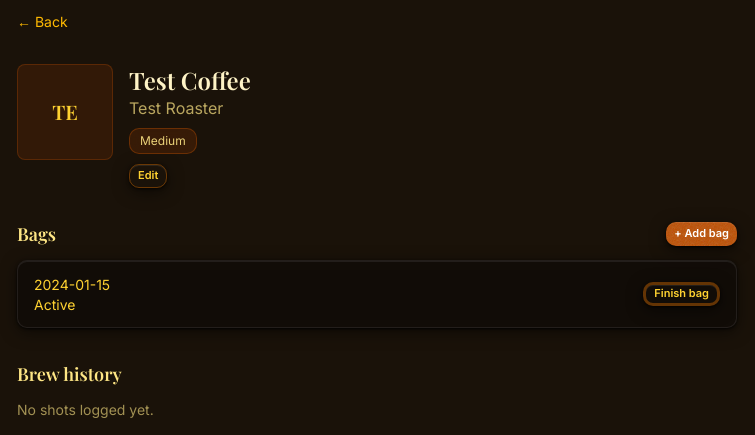
Scenario: CatalogDetail — bag card › CatalogDetail — bag status actions › finishes an active bag and updates the row status without a full reload
Click the button "Finish bag": (682,294) [643,282,720,306]
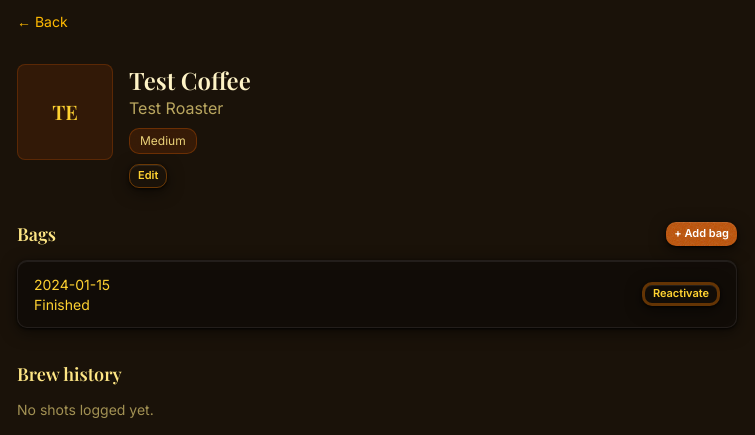
Check: the text with test id "bag-status" reads "Finished", box [34,296,90,313]
